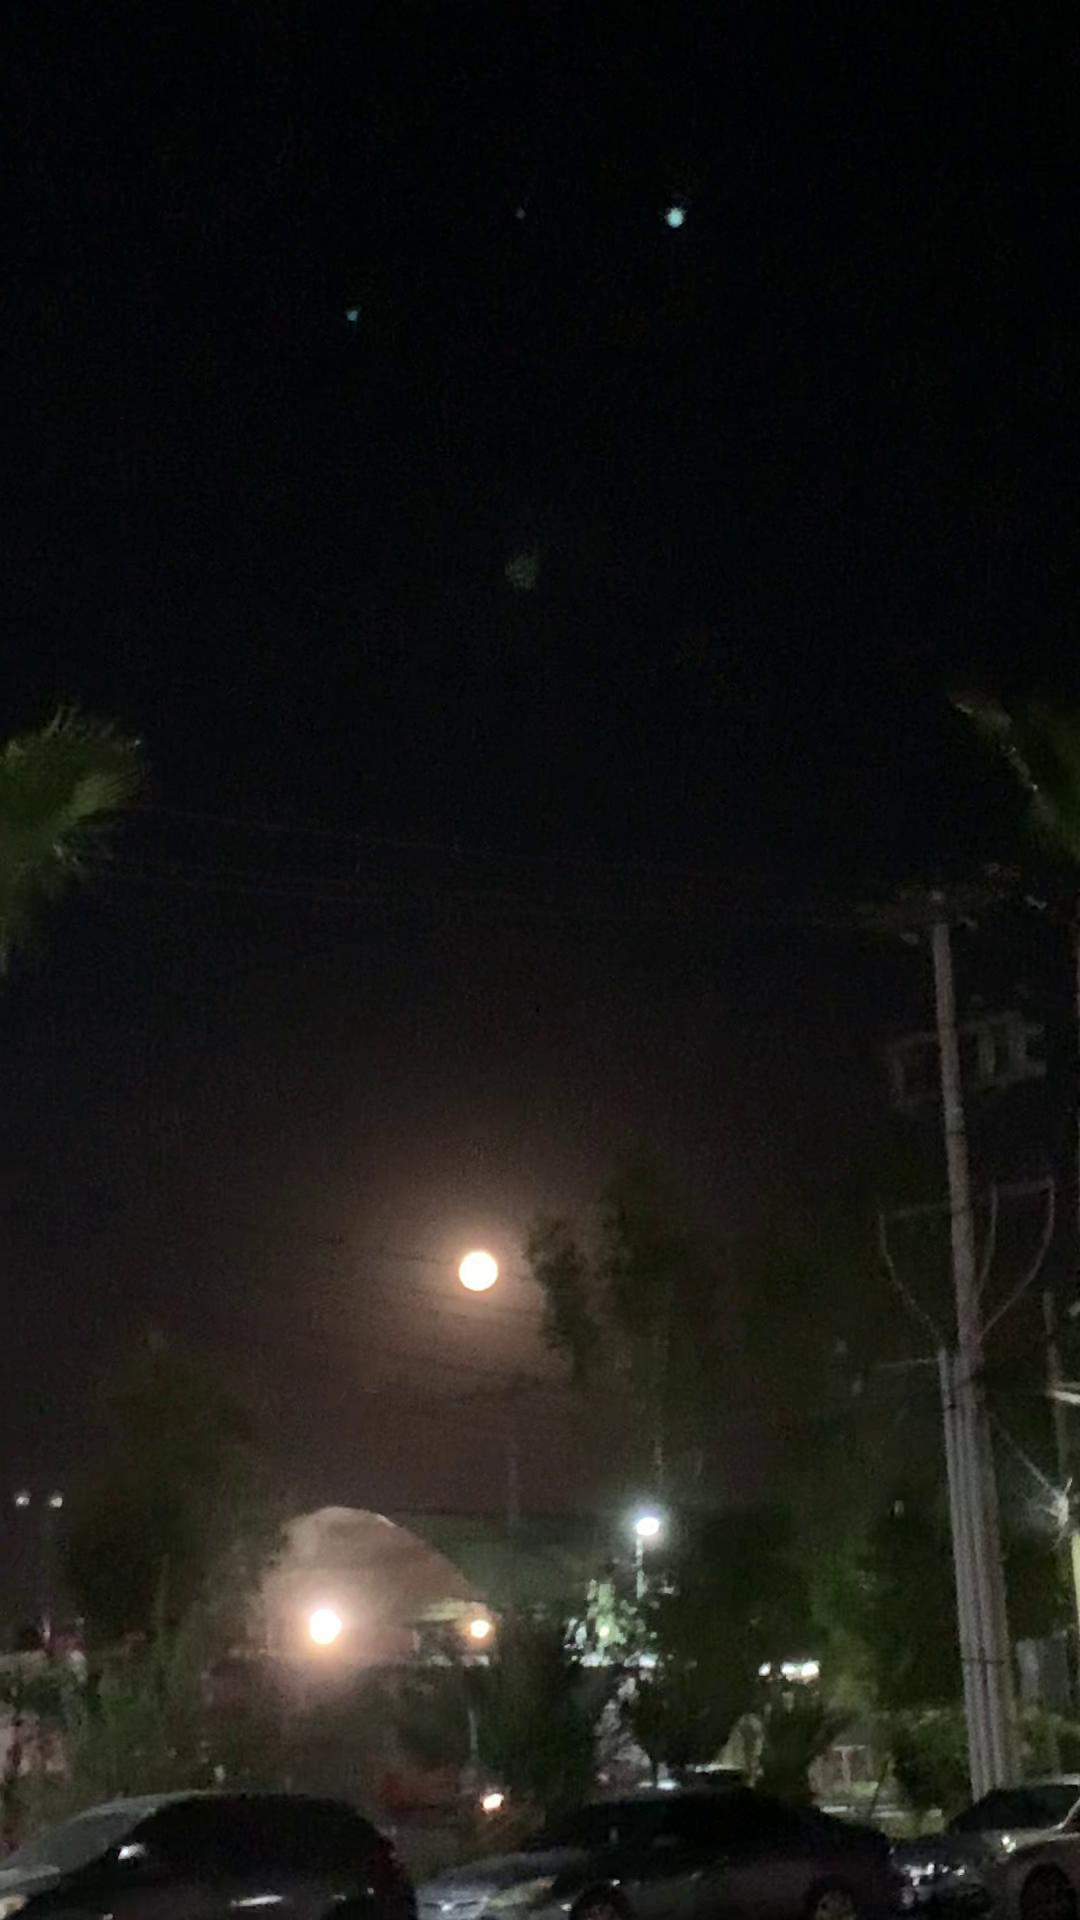moon: (443, 1221, 533, 1298)
